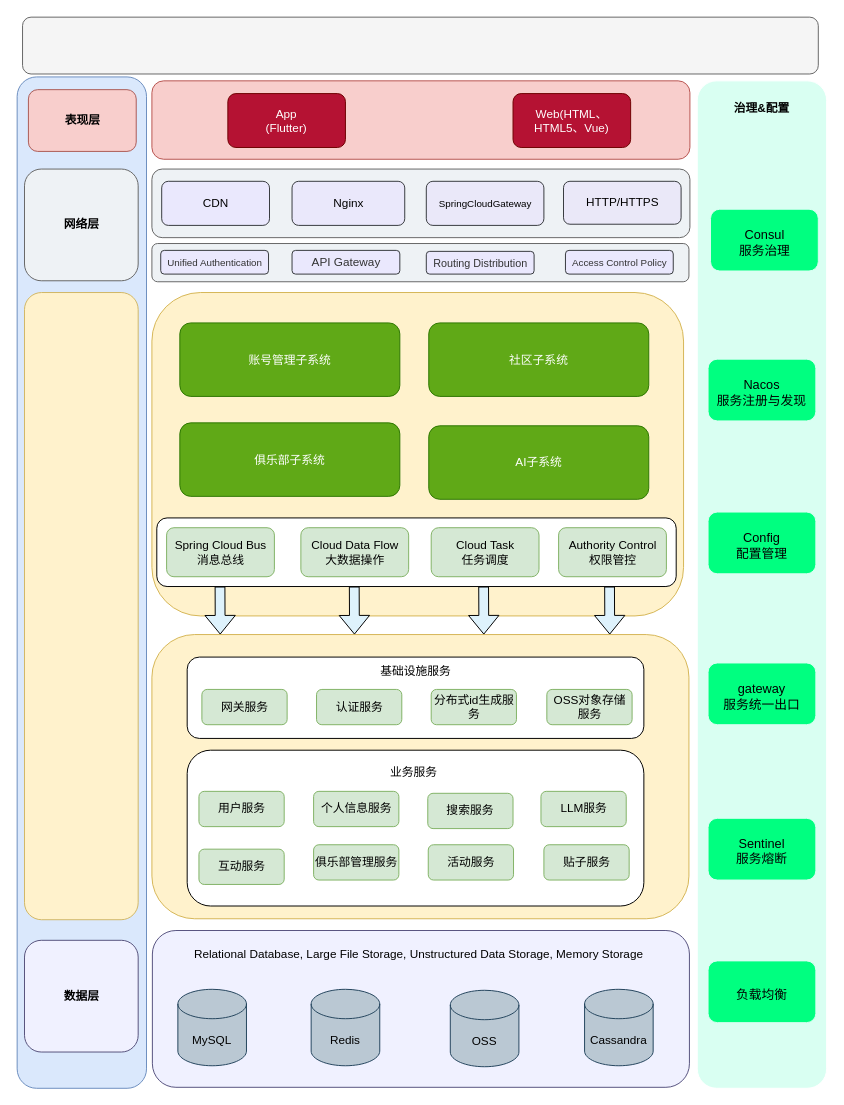
The diagram is 844 pixels wide and 1105 high, and some of its shapes have lost their labels. The shapes that lost their labels are listed below. From the top down, each one's box as (x1, y1, x2, y2) in pixels, then its label:
(22, 16, 818, 74): Social-That-Gets-You 系统逻辑架构
(24, 292, 138, 920): 服务层
